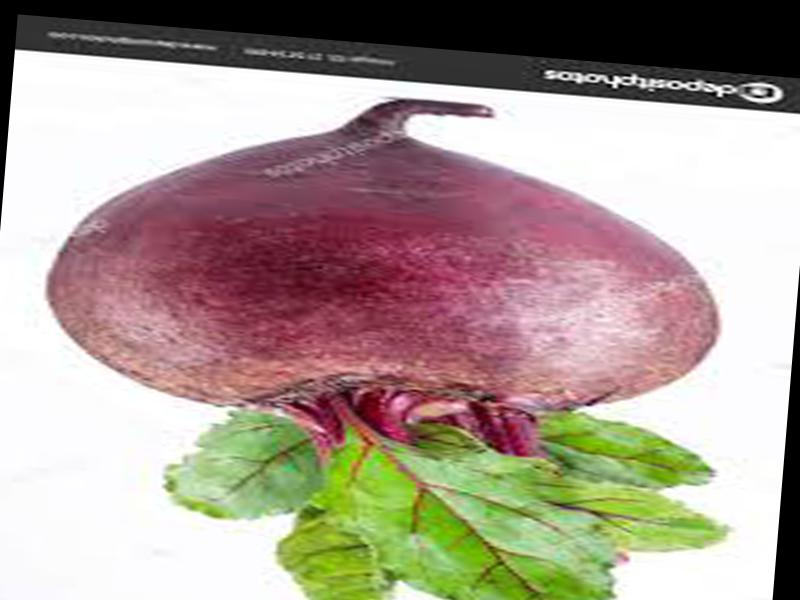Beet: (20, 73, 759, 600)
